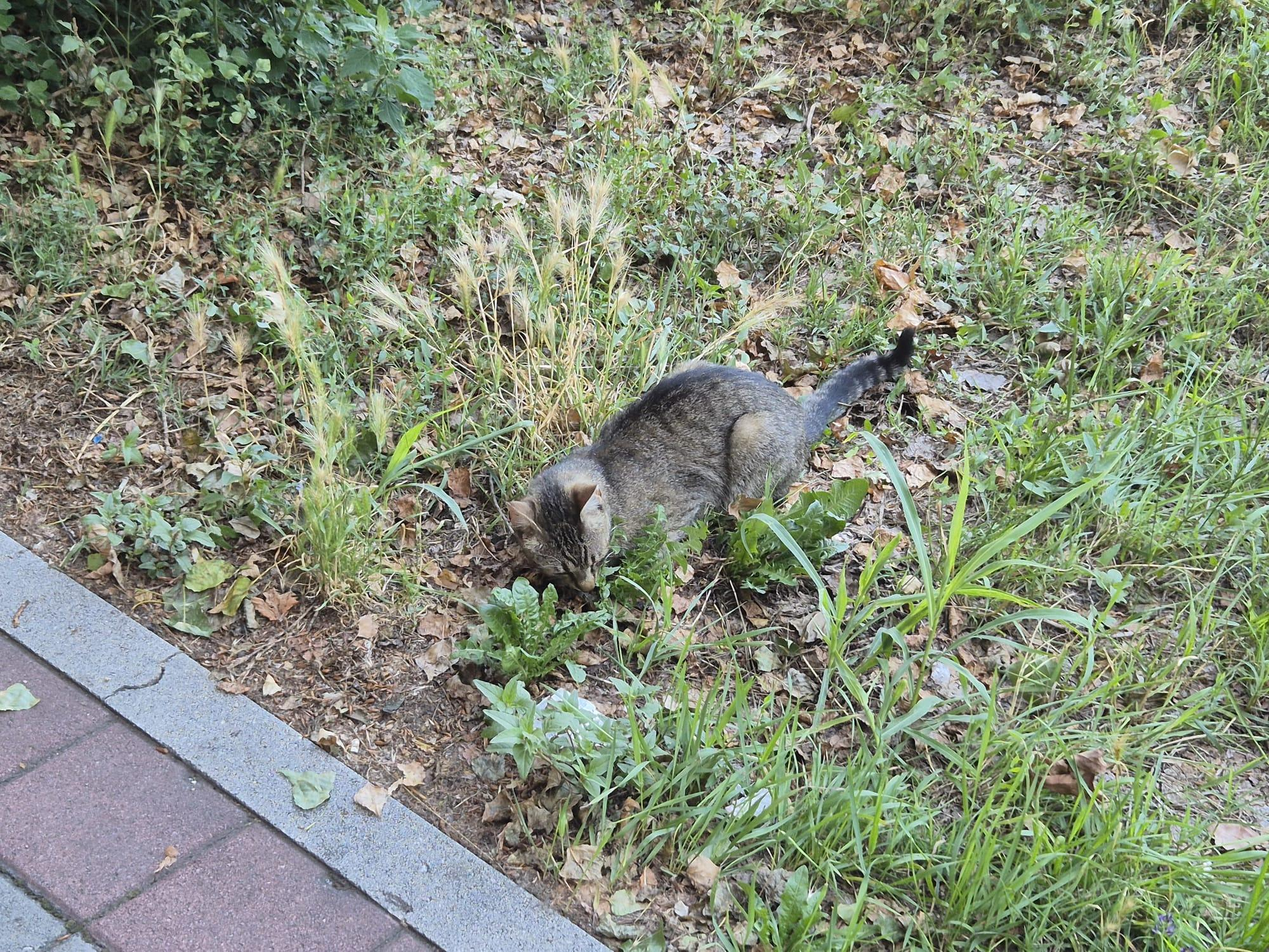macka: (503, 326, 917, 595)
